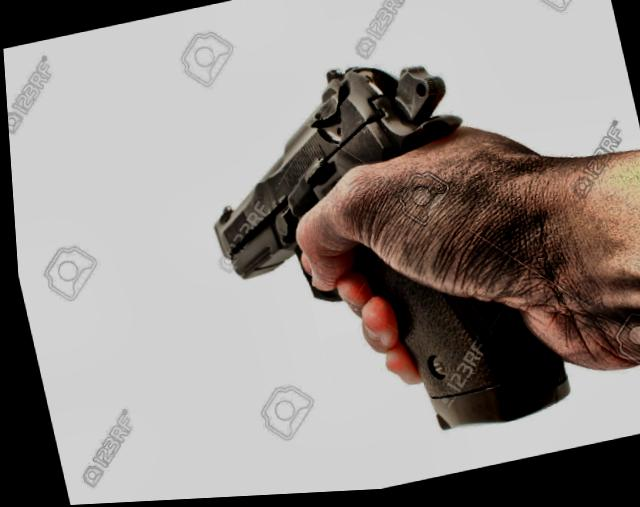pistol: (171, 0, 579, 480)
